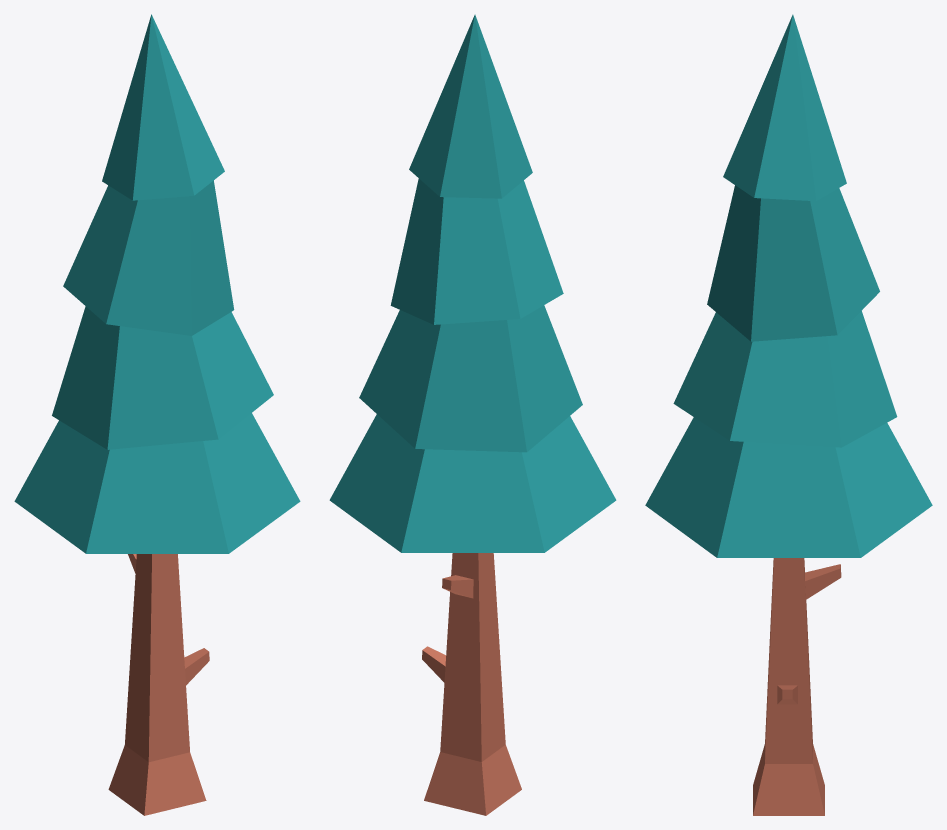
Rendered from tree_pineTallC_detailed.glb.
3 views of the same model, side by side, from view 1: azimuth 30°, elevation 25°; view 2: azimuth 150°, elevation 25°; view 3: azimuth 270°, elevation 25° (orthographic).
Visible parts, largest first — view 1: tree_pineTallC_detailed; view 2: tree_pineTallC_detailed; view 3: tree_pineTallC_detailed.
Part boxes in pixels (<box>): tree_pineTallC_detailed: <box>14,14,300,815</box>; tree_pineTallC_detailed: <box>329,14,616,815</box>; tree_pineTallC_detailed: <box>645,14,932,815</box>.
Bounding box in the file's own units: 0.4804 × 1.67 × 0.5547.
